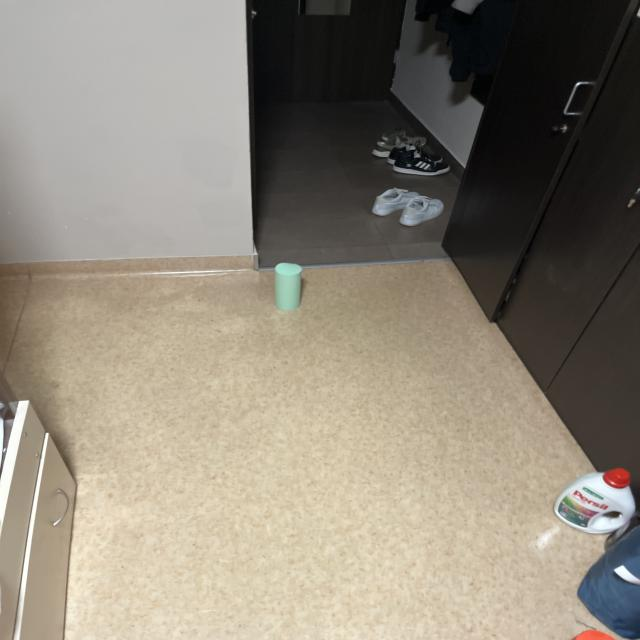meta: (275, 263, 302, 310)
